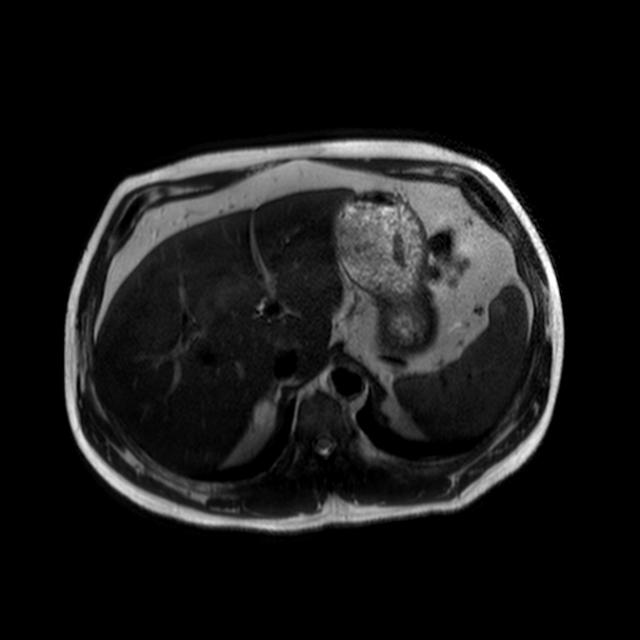sag: (254, 402, 274, 433)
sol: (386, 404, 411, 433)
